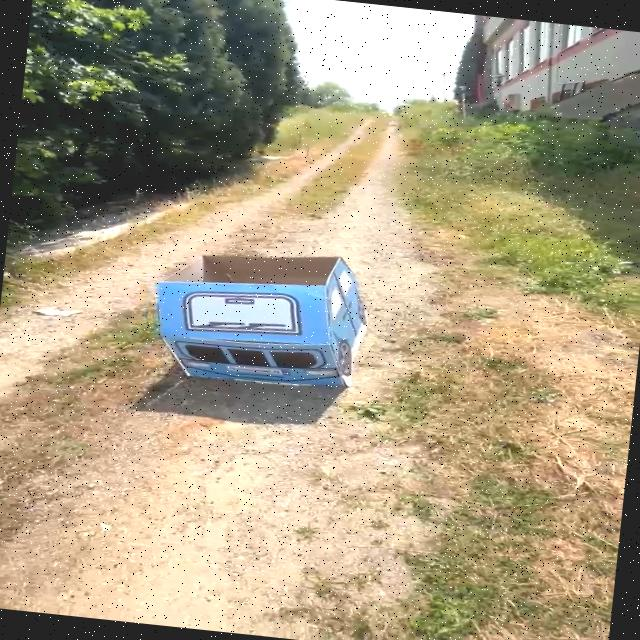blue_car: (134, 224, 396, 430)
